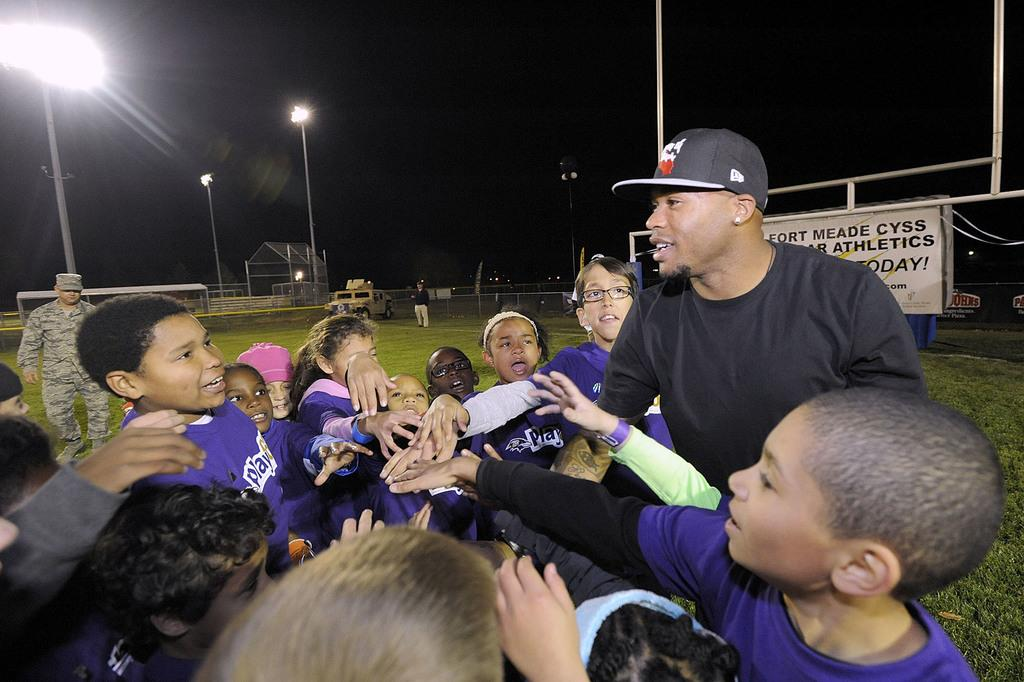Hat: (612, 126, 768, 216)
